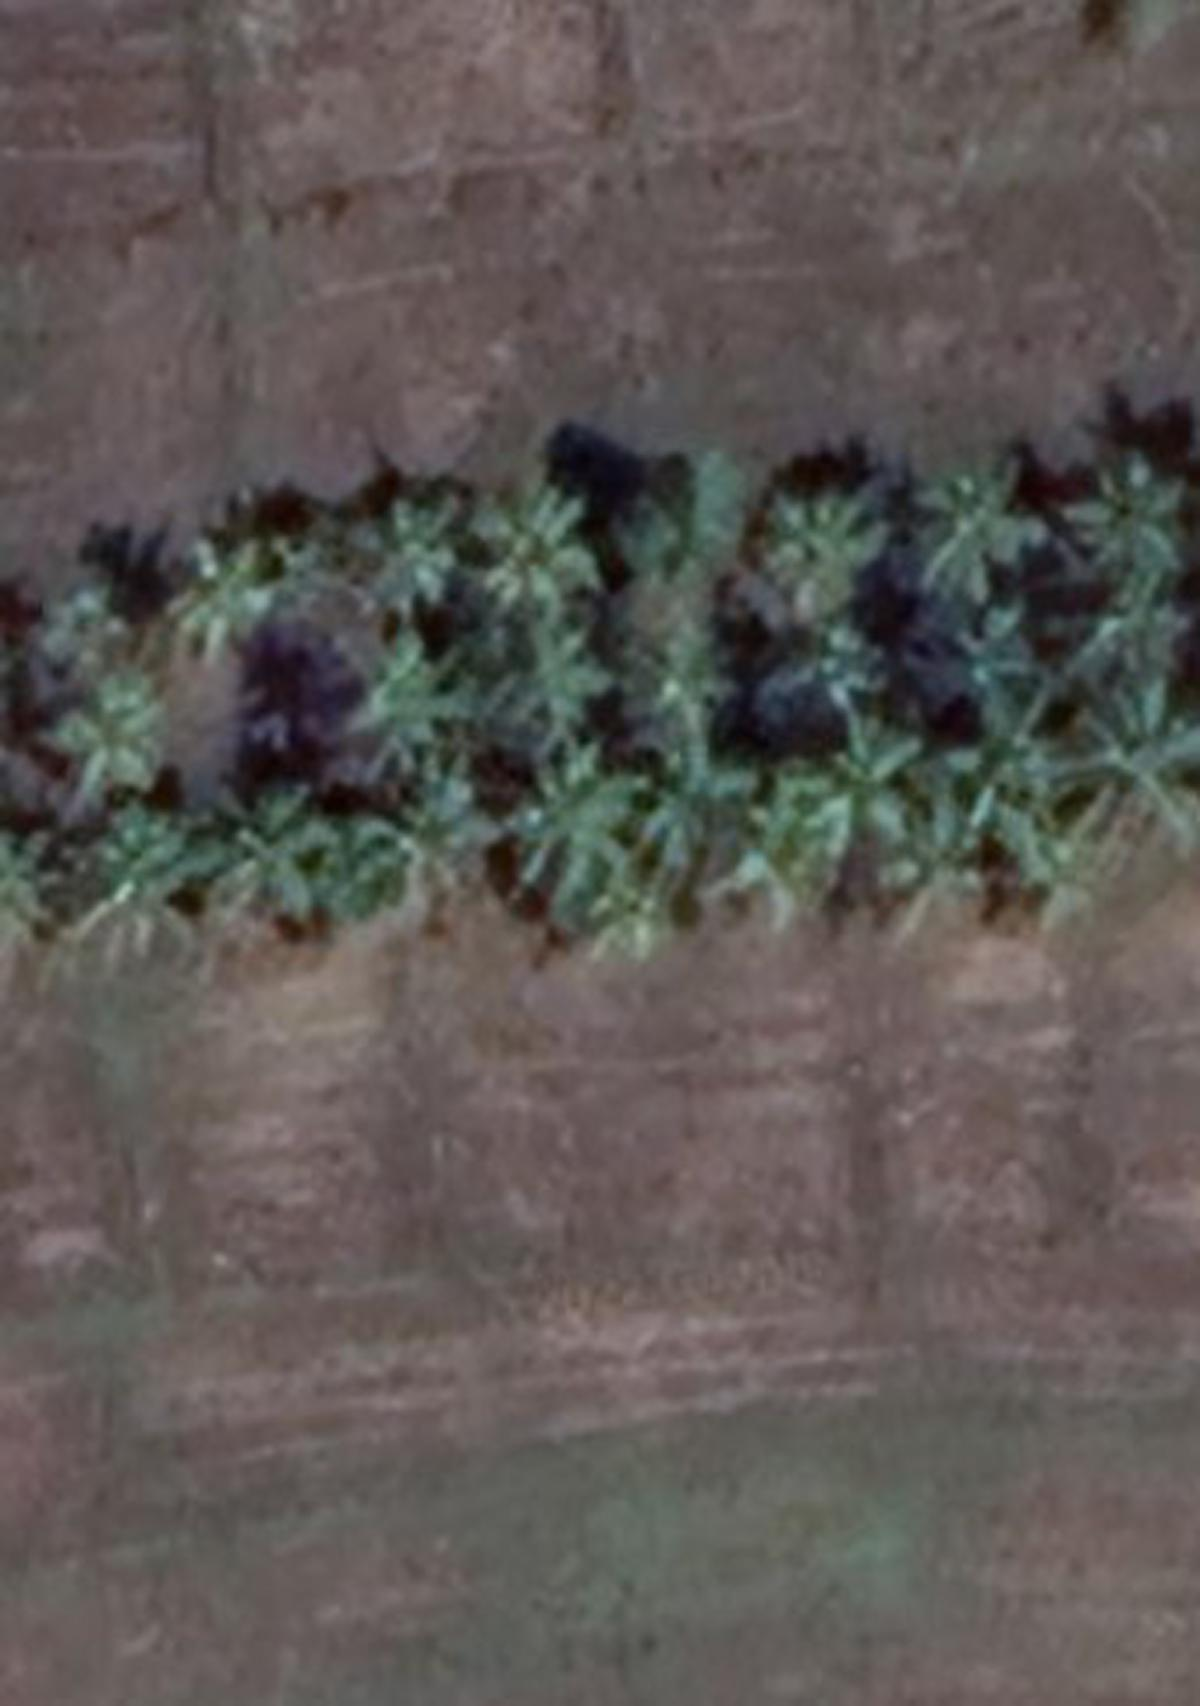coconut: (1055, 683, 1200, 859), (353, 753, 503, 906), (495, 743, 647, 884), (745, 630, 909, 753), (1065, 441, 1200, 587), (930, 679, 1058, 831), (81, 798, 212, 945), (806, 724, 938, 867), (42, 683, 184, 814), (316, 634, 460, 757), (162, 541, 300, 669), (212, 798, 345, 923), (492, 615, 616, 750), (6, 566, 145, 679), (753, 491, 874, 619), (464, 495, 605, 601), (913, 476, 1032, 595), (626, 622, 745, 736), (351, 499, 460, 619), (636, 732, 736, 863), (1061, 595, 1196, 686)
